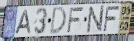3: (32, 7, 49, 36)
A: (14, 9, 32, 35)
D: (49, 7, 67, 36)
F: (102, 5, 121, 33), (66, 6, 85, 34)
N: (87, 5, 105, 34)
